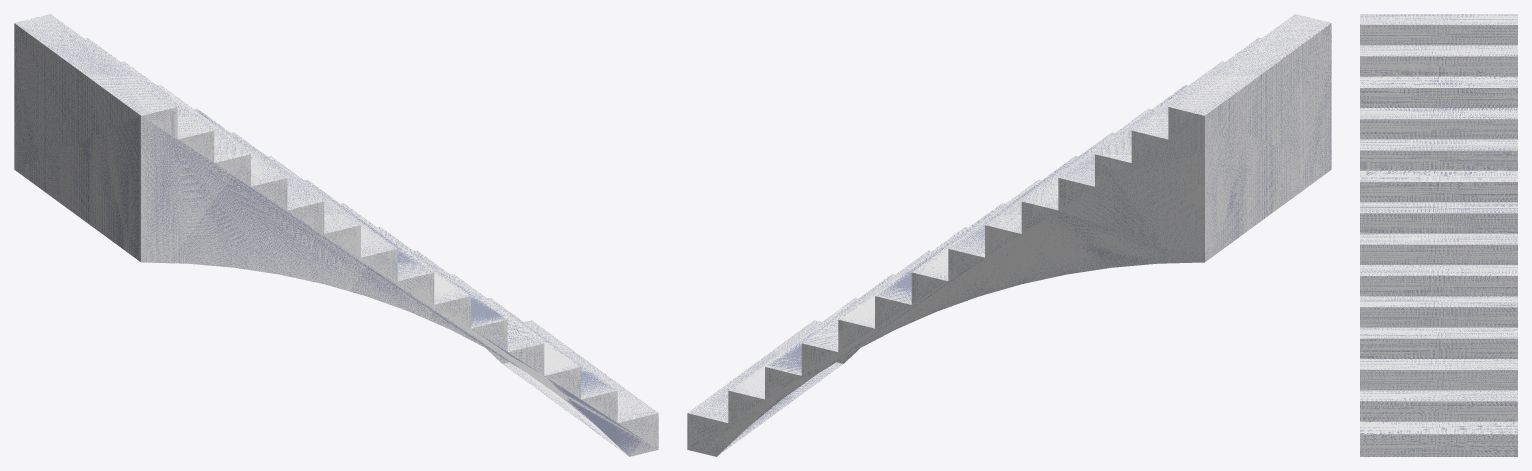
The model's file is Lounge-stairs.fbx.
3 views of the same model, side by side, from view 1: azimuth 30°, elevation 25°; view 2: azimuth 150°, elevation 25°; view 3: azimuth 270°, elevation 25° (orthographic). The views are drawn at different scales.
Visible parts, largest first — view 1: Model; view 2: Model; view 3: Model.
Boxes of the visible parts, x1,y1,x2,y2 form: Model: (14, 14, 658, 456); Model: (687, 14, 1331, 456); Model: (1360, 14, 1517, 456).
Size of the model in its own units: 113 by 96 by 48.
